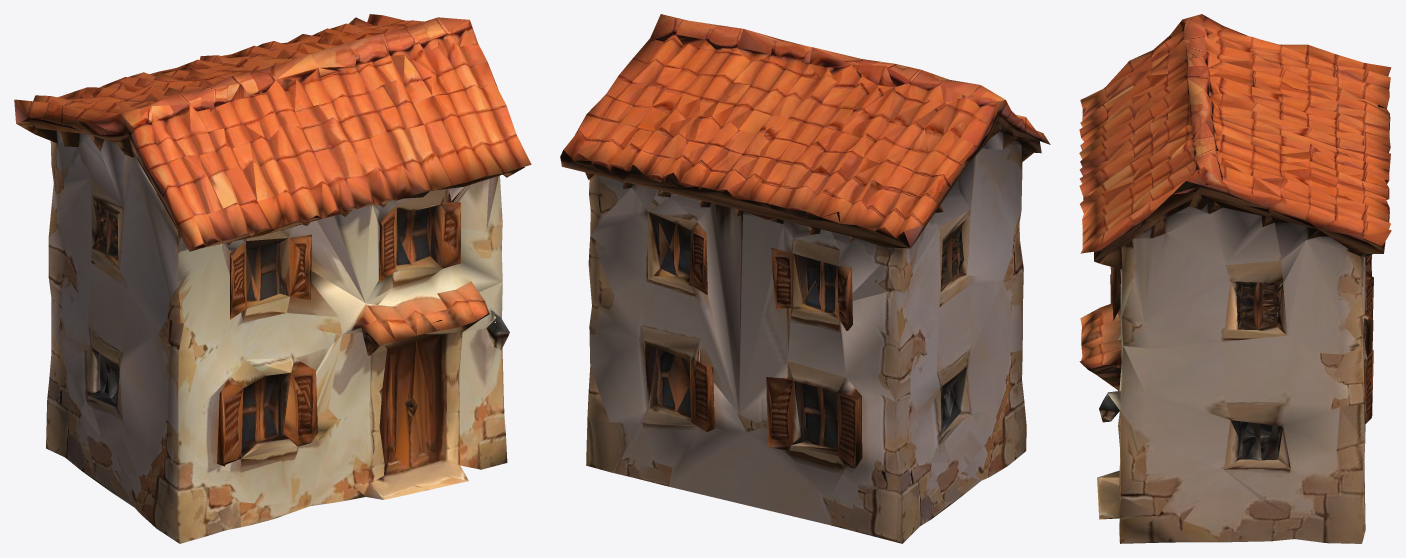
Rendered from hut.glb.
3 renders of one model, left to right at view 1: azimuth 30°, elevation 25°; view 2: azimuth 150°, elevation 25°; view 3: azimuth 270°, elevation 25°, orthographic. The views are drawn at different scales.
Visible parts, largest first — view 1: TripoHut_Mesh; view 2: TripoHut_Mesh; view 3: TripoHut_Mesh.
Part boxes in pixels (x1,y1,x2,y2): TripoHut_Mesh: [14, 14, 531, 543]; TripoHut_Mesh: [560, 14, 1050, 543]; TripoHut_Mesh: [1079, 14, 1391, 543].
Size of the model in its own units: 3.8 by 4.1 by 3.
Materials: 1 (1 with a texture image).
